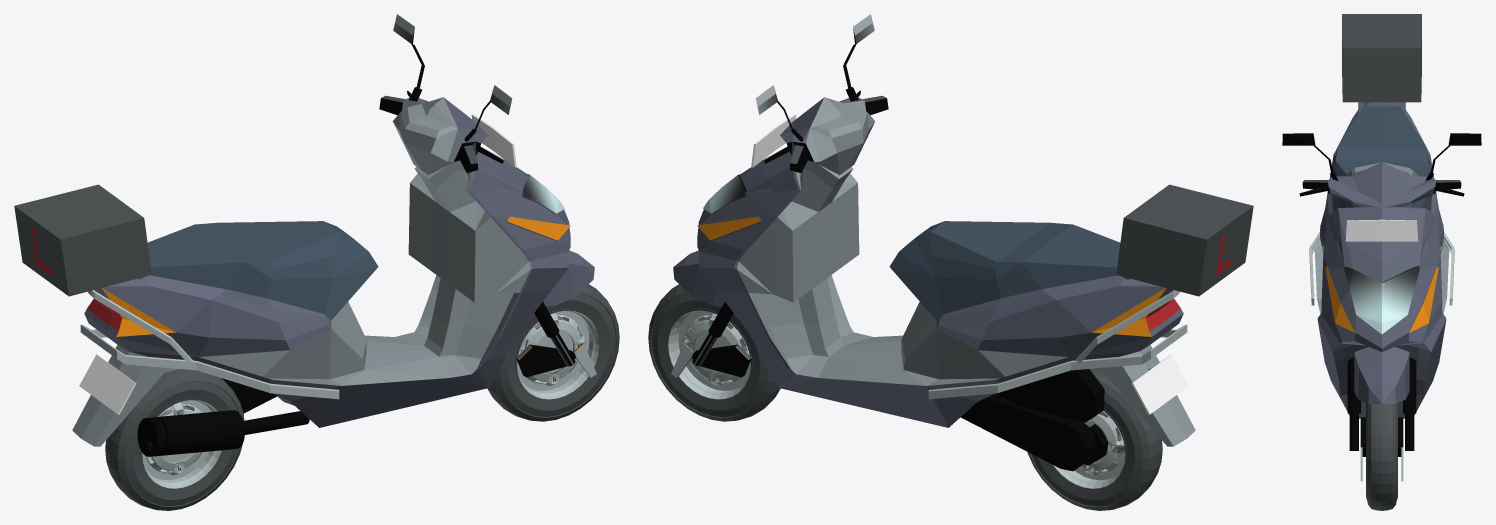
File: HN-Dio_stock.fbx
3 views of the same model, side by side, from view 1: azimuth 30°, elevation 25°; view 2: azimuth 150°, elevation 25°; view 3: azimuth 270°, elevation 25° (orthographic). The views are drawn at different scales.
Visible parts, largest first — view 1: Body, WheelR, ForkF, WheelF, ForkR; view 2: Body, ForkF, WheelF, ForkR, WheelR; view 3: Body, ForkF, WheelF.
Boxes of the visible parts, box(x1,y1,x2,y2) form: Body: box(14, 114, 570, 446); WheelR: box(105, 369, 244, 510); ForkF: box(379, 14, 596, 377); WheelF: box(487, 284, 619, 421); ForkR: box(137, 378, 309, 456); Body: box(697, 114, 1253, 446); ForkF: box(671, 14, 888, 377); WheelF: box(648, 284, 780, 421); ForkR: box(960, 369, 1108, 471); WheelR: box(1027, 369, 1162, 510); Body: box(1309, 14, 1454, 418); ForkF: box(1282, 133, 1481, 481); WheelF: box(1366, 403, 1397, 510).
Size of the model in its own units: 1.79 by 1.14 by 0.6199.
1 material, 1 textured.
